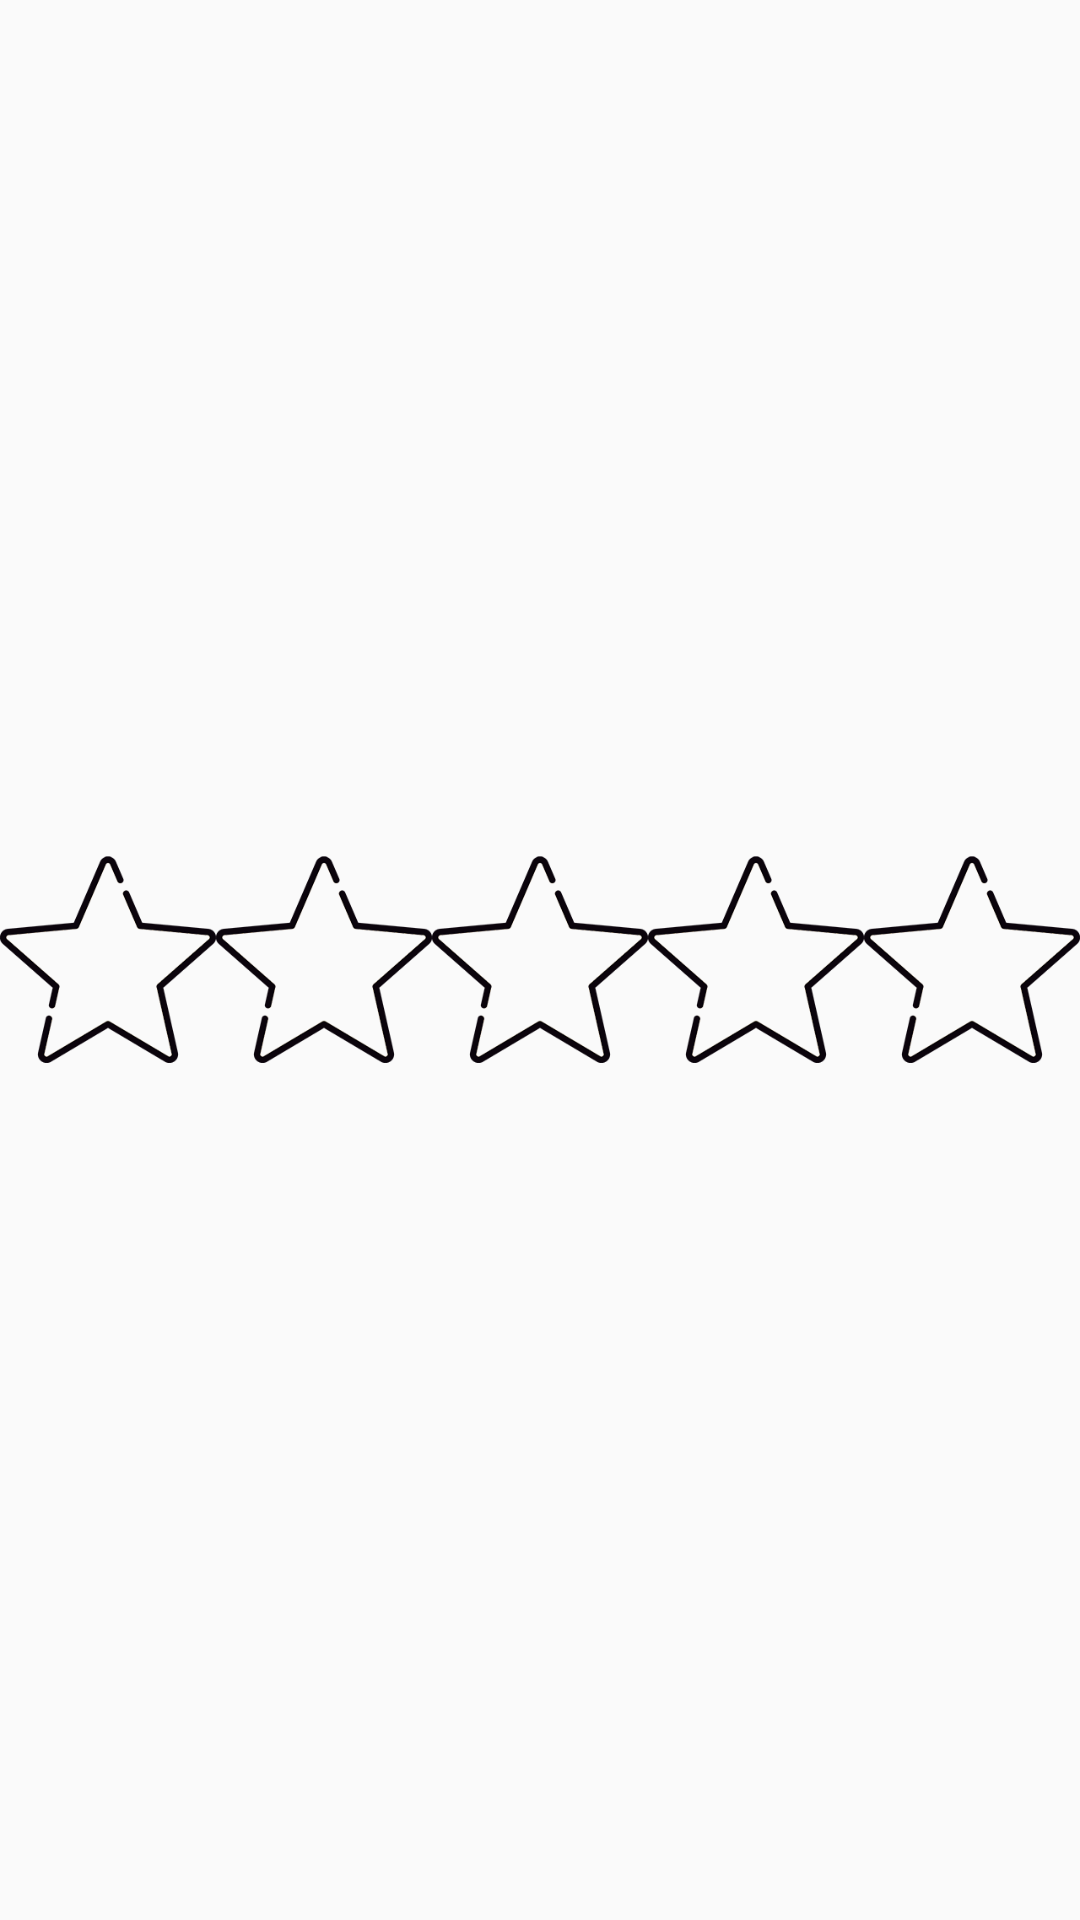

Where to tap for icons on this 1080w x 1920h app screen, as point (x, y):
ui star empty: point (108, 959), point (324, 959), point (540, 959), point (756, 959), point (990, 976)
